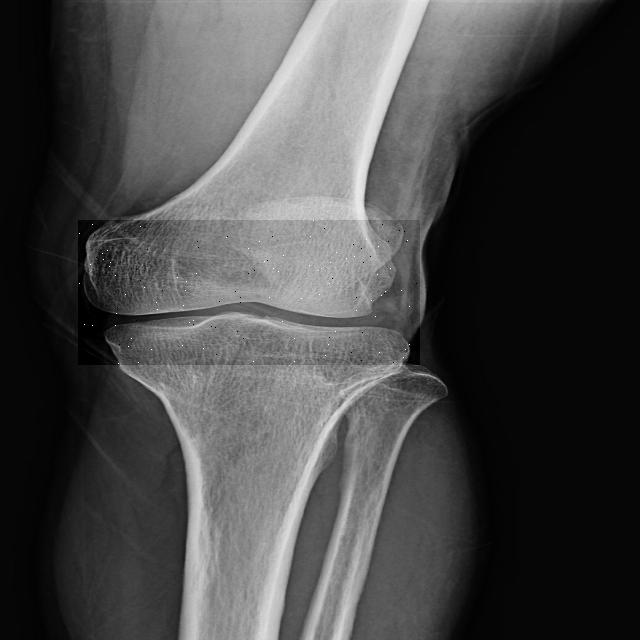osteo: (78, 220, 420, 365)
